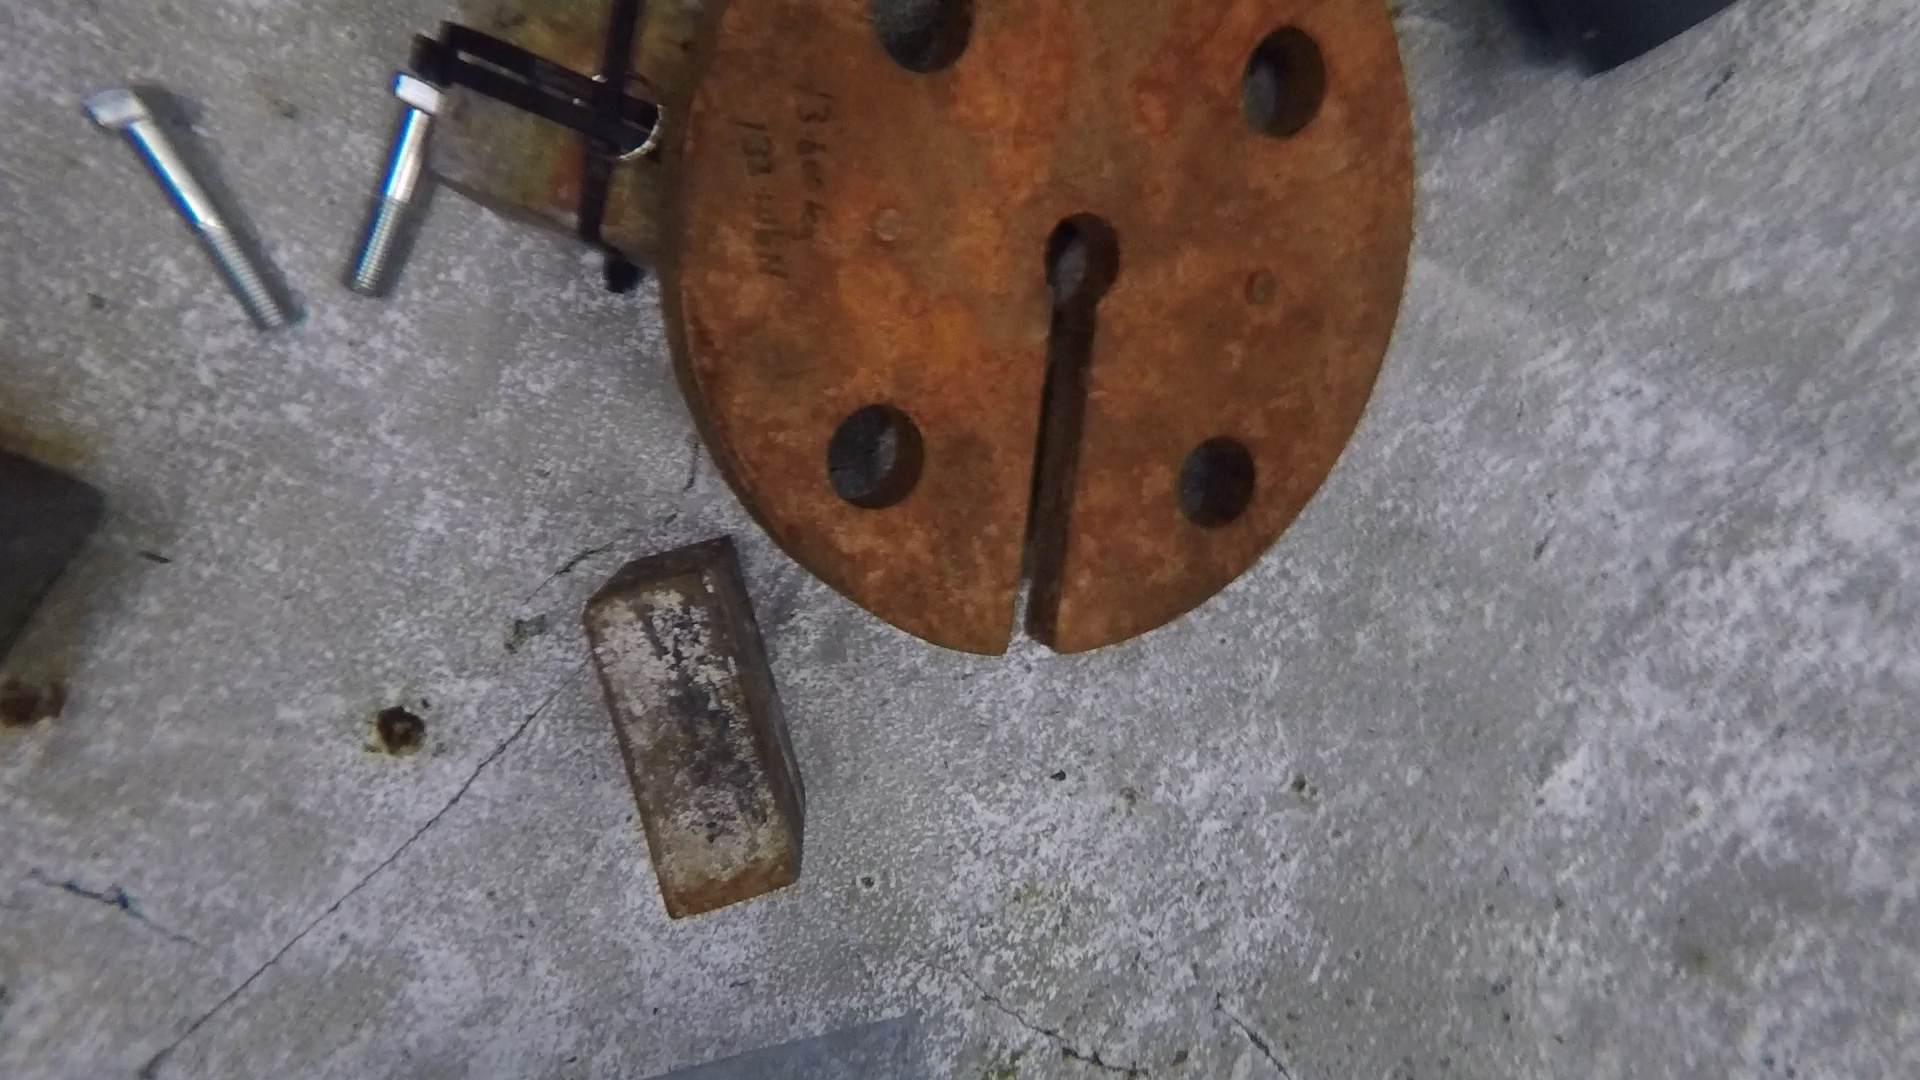bolt: (82, 82, 295, 336), (338, 69, 447, 301)
flange: (657, 7, 1419, 657)
led_block: (582, 535, 808, 920), (429, 3, 692, 291)
pipe: (1511, 1, 1756, 80)
